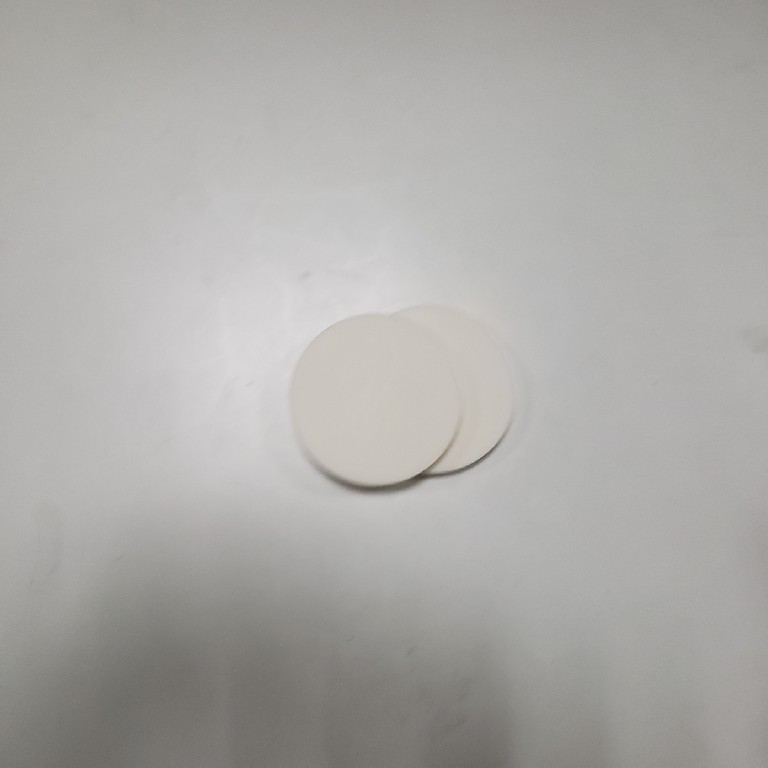ceramics: (285, 299, 522, 499)
